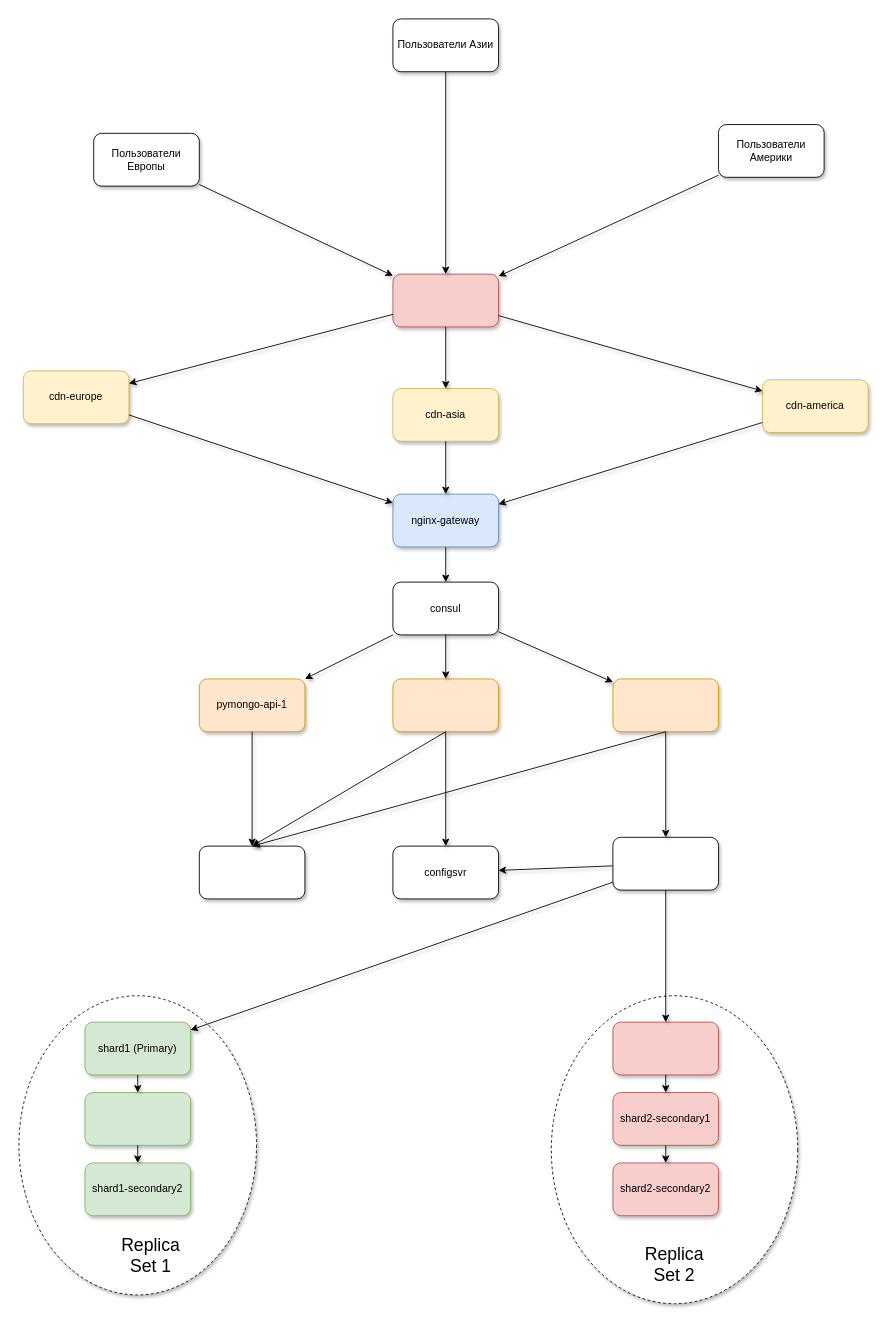
Image size: 889x1325. Some labels were removed from this diagram. Here are the shapes that lost their labels. From the top down, the centre of each, then its label:
At pixel 446 301: "global-load-balancer".
At pixel 446 706: "pymongo-api-2".
At pixel 666 706: "pymongo-api-3".
At pixel 252 873: "redis".
At pixel 666 864: "mongos".
At pixel 666 1049: "shard2 (Primary)".
At pixel 138 1119: "shard1-secondary1".
